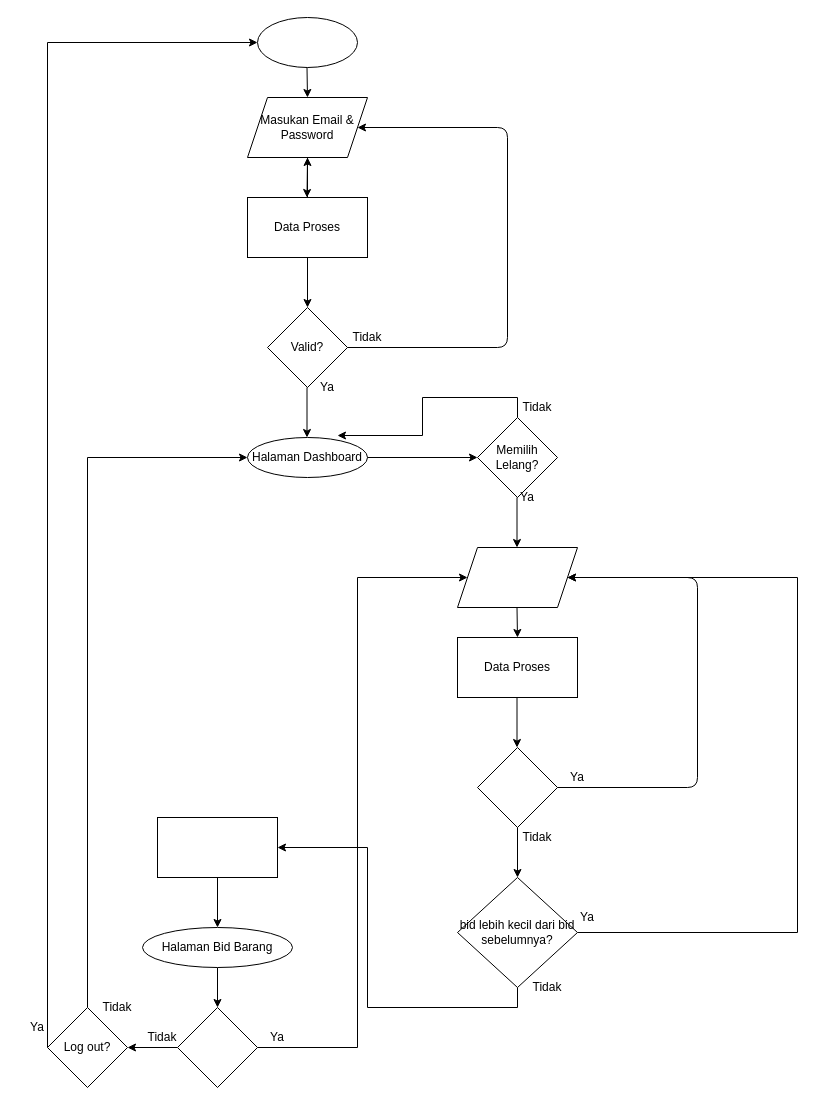
The diagram is 823 pixels wide and 1105 high, and some of its shapes have lost their labels. The shapes that lost their labels are listed below. From the top down, each one's centre as x and y in pixels, then its label:
At (x=307, y=42): "Masuk".
At (x=517, y=577): "Upaya Bid".
At (x=517, y=787): "Kurang Dari harga Awal?".
At (x=217, y=847): "Bid dibuat".
At (x=217, y=1047): "Lakukan Bid Lagi?".
